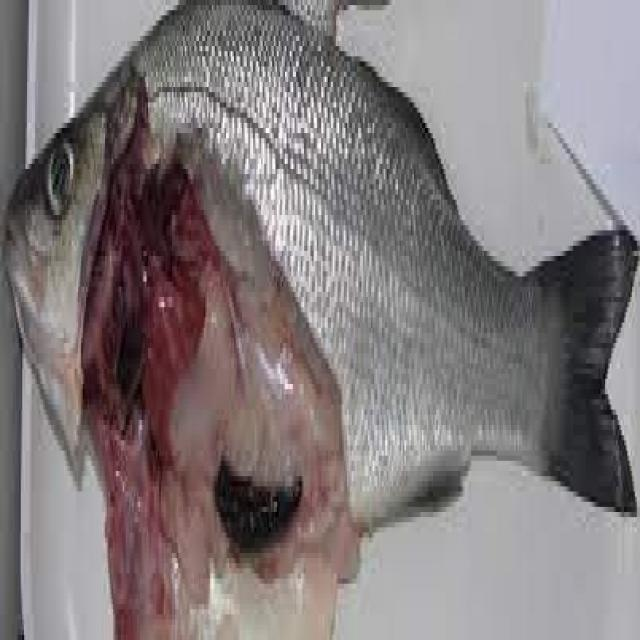EUS Disease: (0, 0, 640, 640), (5, 120, 408, 638)
